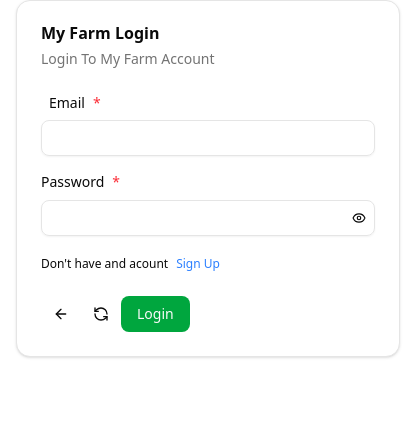
Test: Login Form Tests › shows password required error when cleared
The image size is (417, 431).
Type "tes" into the field labelled "Email *".
click(208, 138); type("tes")  # box [41, 120, 375, 156]
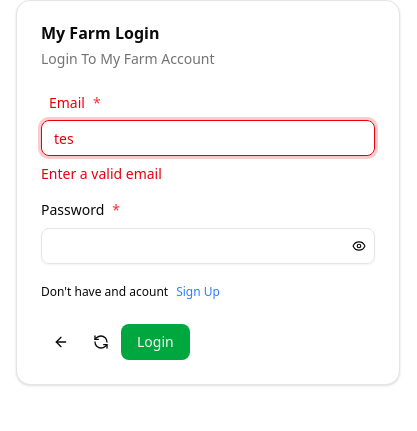
Type "t" into the password field labelled "Password *".
click(193, 246); type("t")  # box [42, 228, 344, 264]
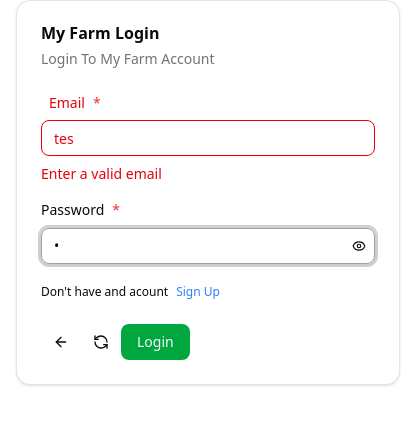
Clear the password field labelled "Password *" at (193, 246), box [42, 228, 344, 264]
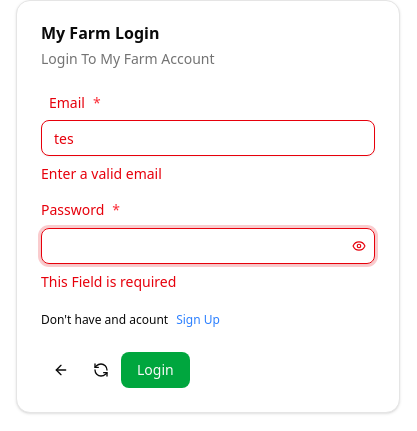
Expected: the text "Enter a valid email" is shown, [41, 164, 162, 183]
Expected: the text "This Field is required" is shown, [41, 272, 176, 290]
Type "test@test.com" into the field labelled "Email *".
click(208, 138); type("test@test.com")  # box [41, 120, 375, 156]
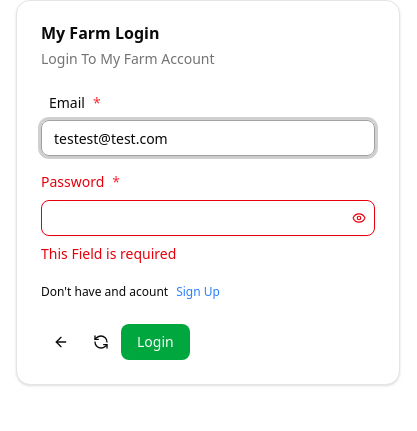
Type "test" into the password field labelled "Password *".
click(193, 218); type("test")  # box [42, 200, 344, 236]
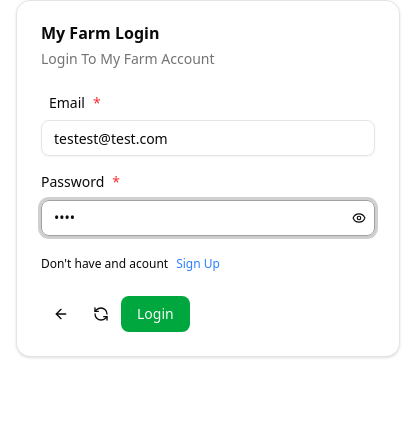
Expected: the text "Enter a valid email" is not shown
Expected: the text "This Field is required" is gone
